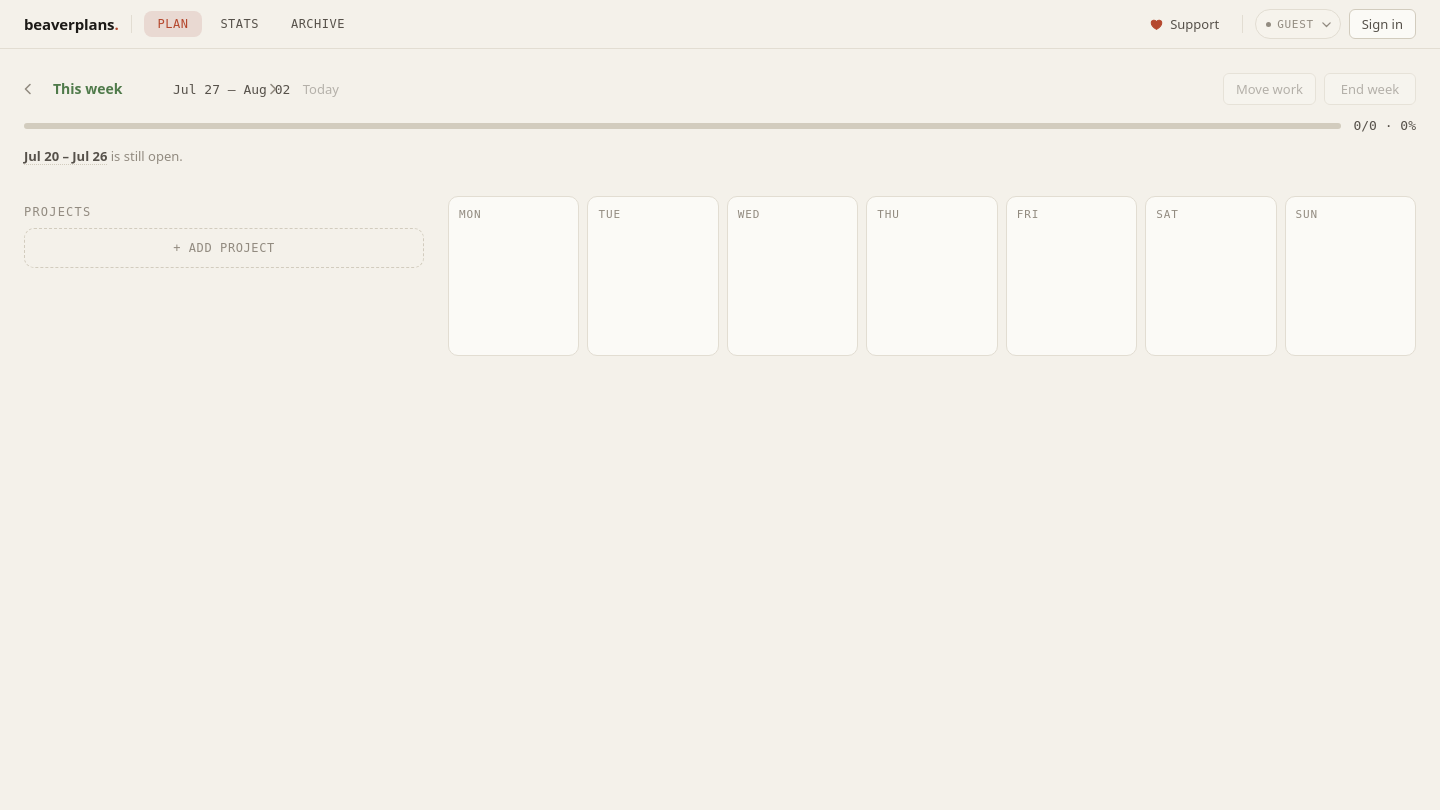
App under the weeks model › a destination that already has work explains itself instead of going quiet
The image size is (1440, 810).
Expected: the button with aria-label "Go to Jul 20" is shown, left=24, top=147, right=107, bottom=167
Click the button named "Previous week" at (28, 89), box left=15, top=76, right=41, bottom=102
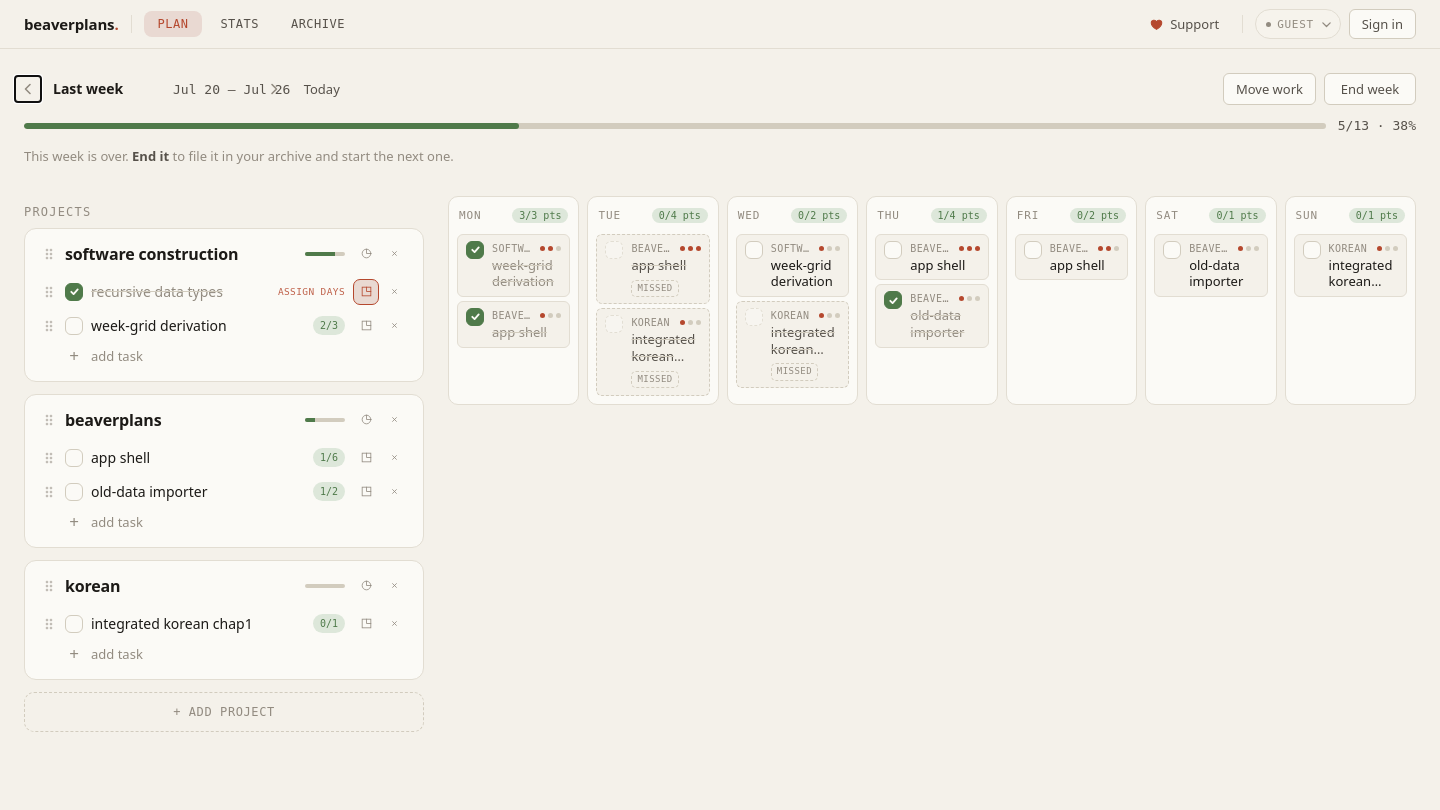
Click the button "Move work" at (1269, 89), box left=1223, top=73, right=1316, bottom=105
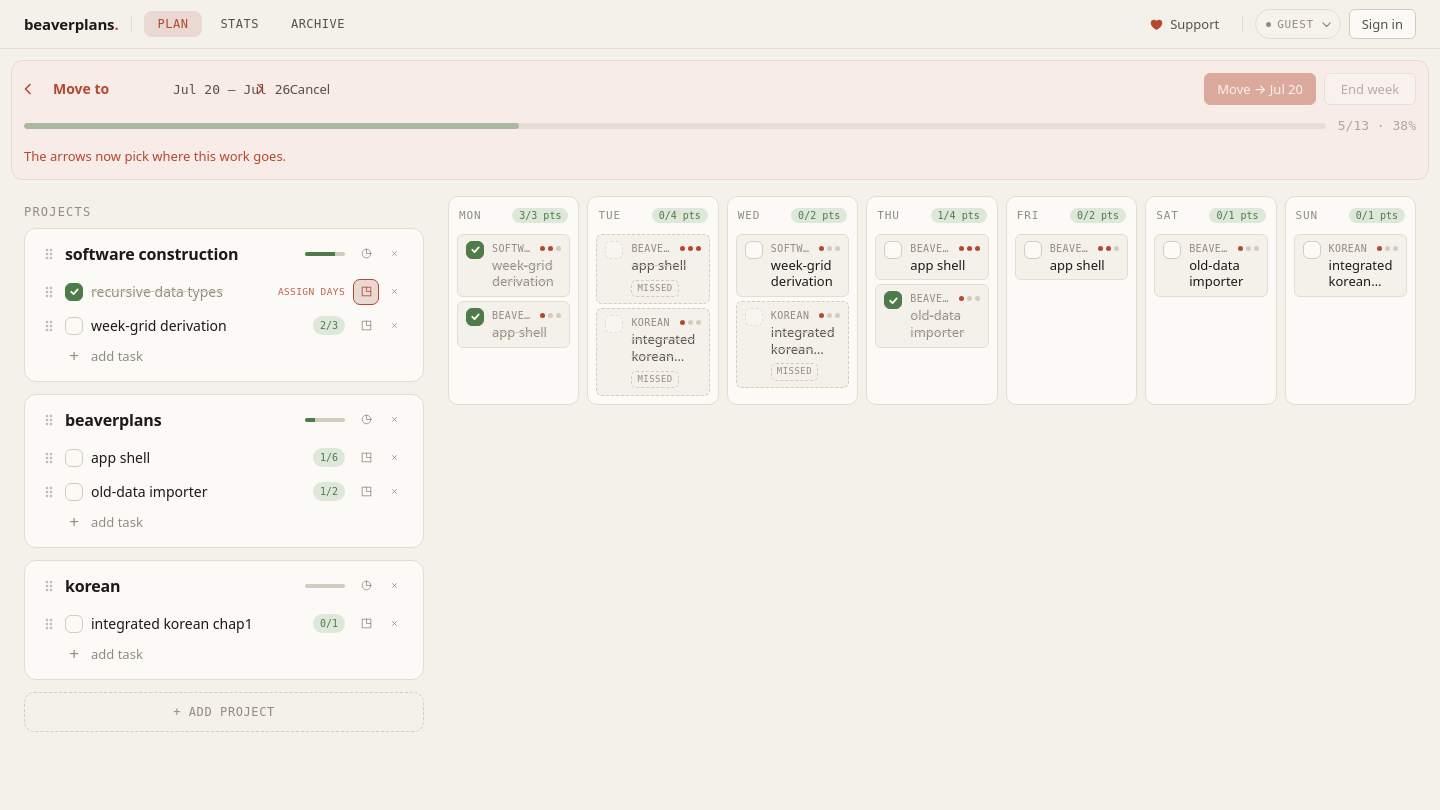
Click the button named "Earlier destination" at (28, 89), box left=15, top=76, right=41, bottom=102
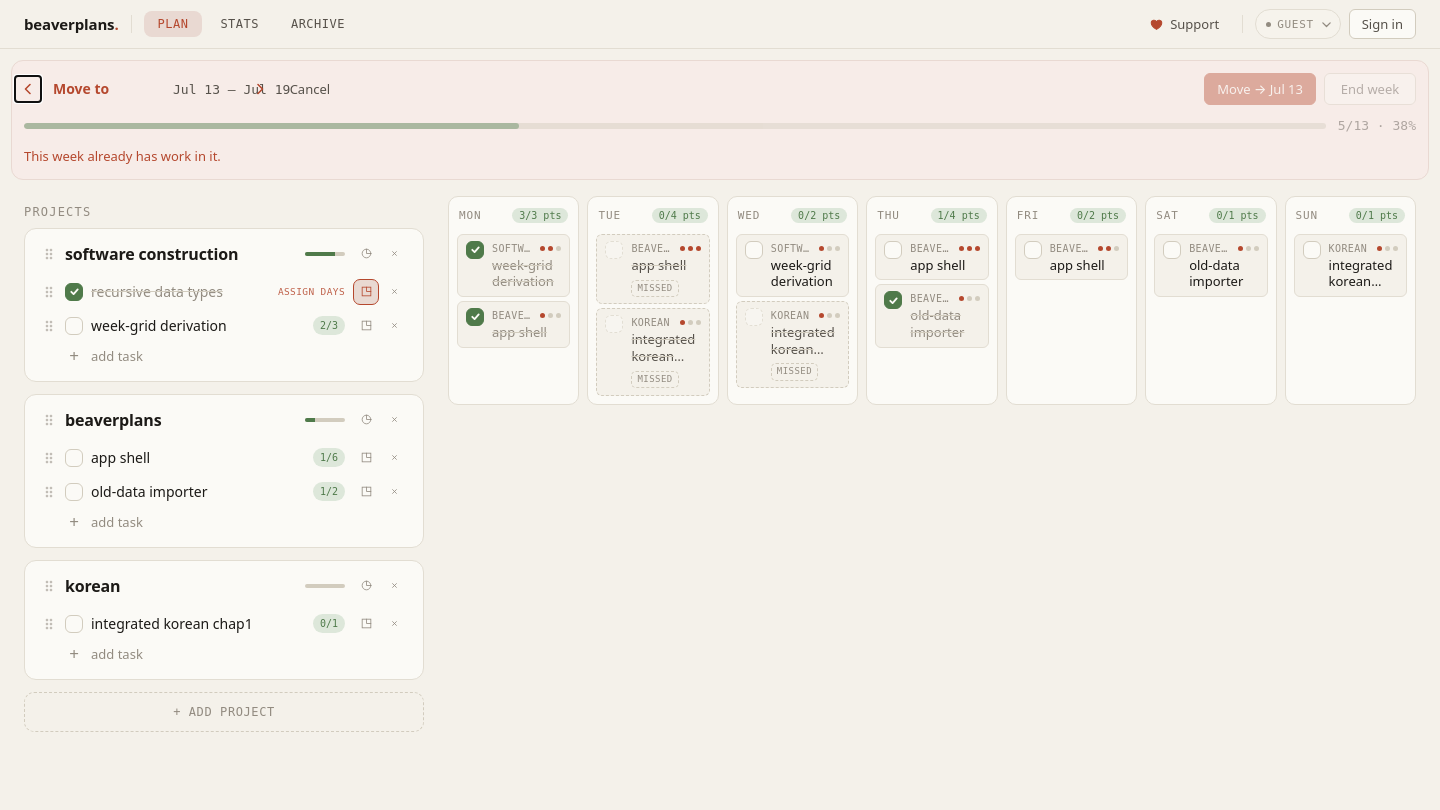
Now the button with aria-label "Cannot move here" is disabled, box left=1204, top=73, right=1316, bottom=105
Now the text "This week already has work in it." is shown, box left=24, top=147, right=221, bottom=165
